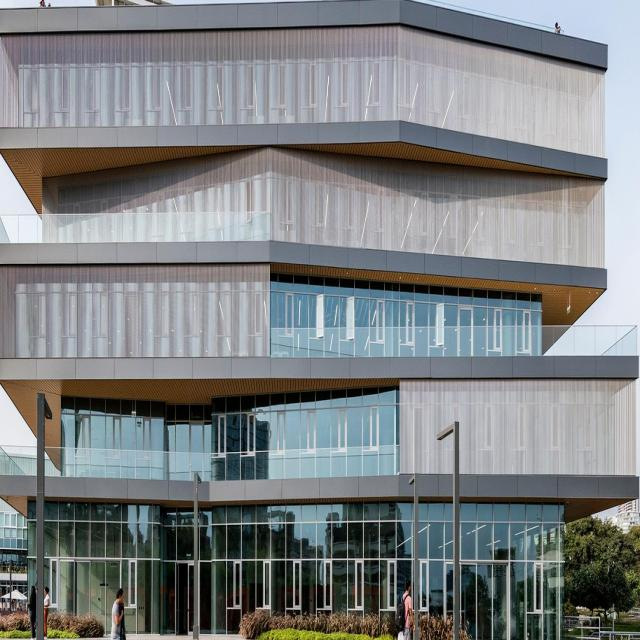railing: (270, 324, 638, 359), (0, 445, 400, 476), (1, 214, 270, 243)
window: (31, 503, 560, 639), (62, 388, 398, 454), (269, 274, 543, 326)
